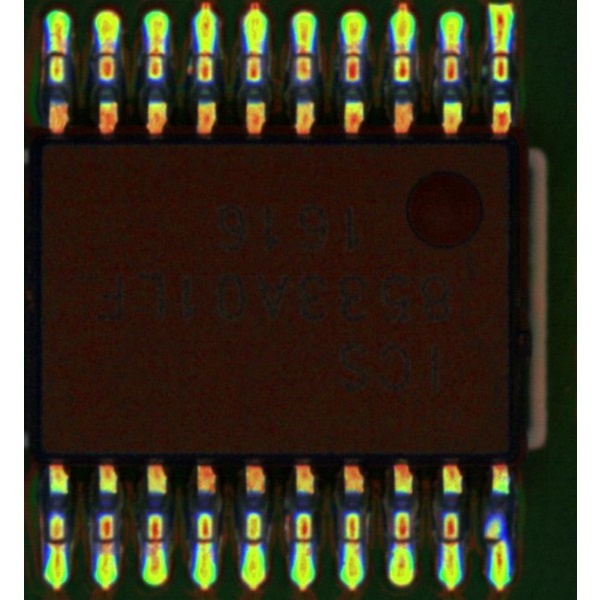Bad_podu: (146, 528, 160, 562), (49, 530, 62, 561), (99, 529, 112, 557), (53, 37, 64, 70), (148, 43, 162, 66), (343, 46, 359, 66), (296, 45, 311, 66), (394, 43, 407, 66), (443, 43, 457, 64), (98, 44, 112, 64)
